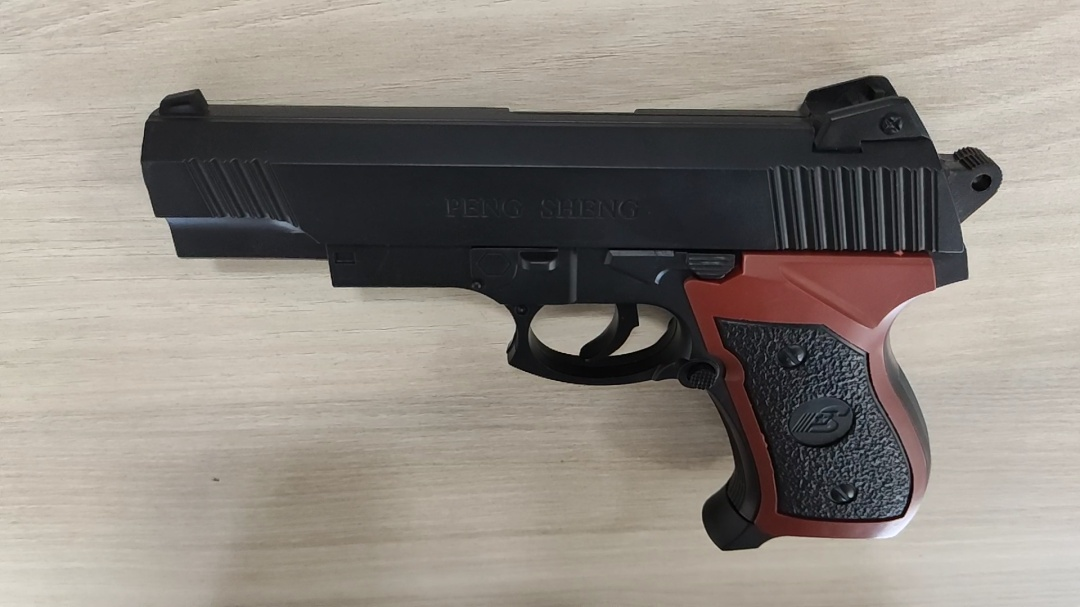gun: (396, 284, 470, 404)
